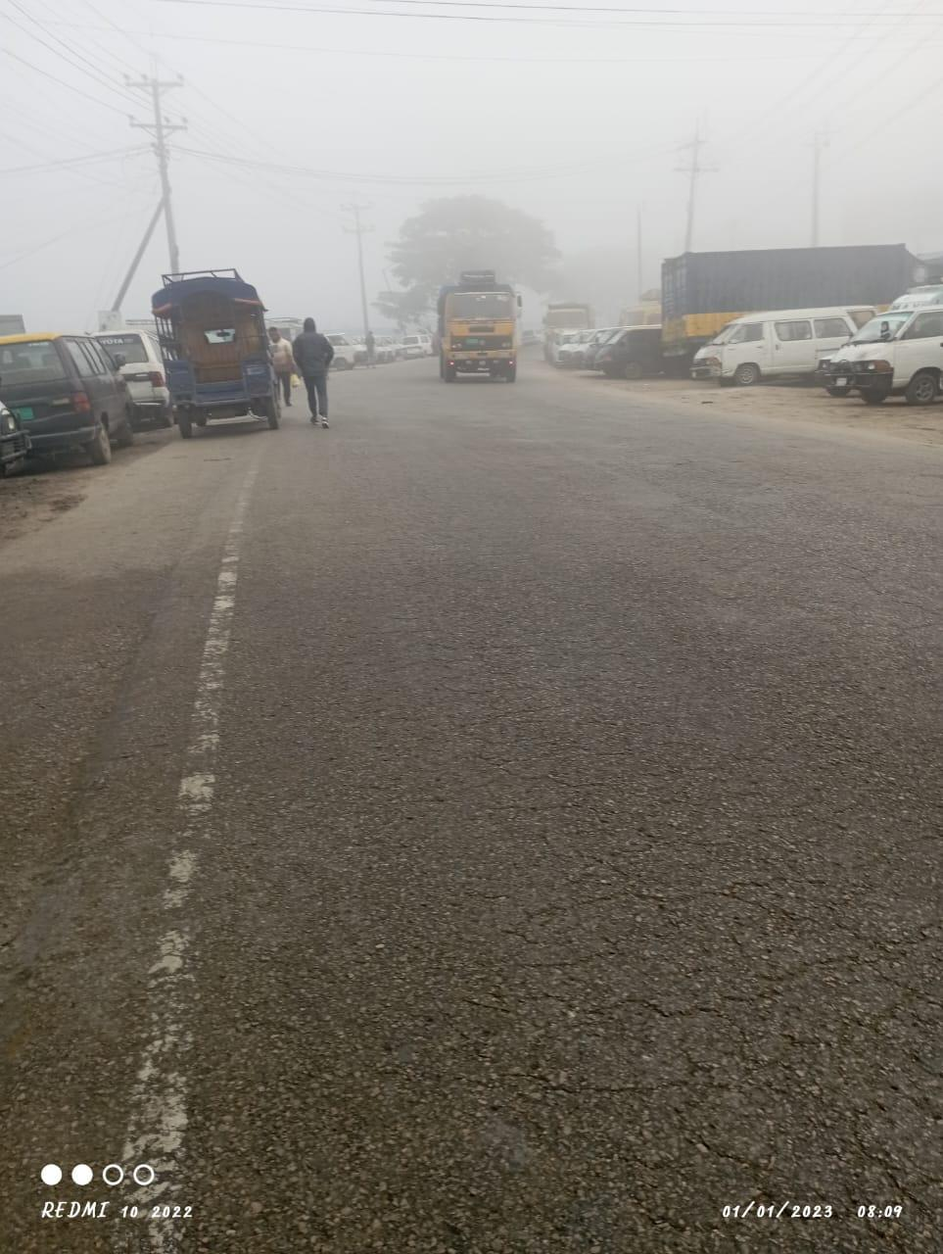Car: (142, 259, 296, 443), (8, 324, 135, 471), (672, 299, 854, 383), (816, 299, 943, 414), (107, 320, 172, 426), (589, 320, 668, 378)
Truck: (650, 240, 932, 337), (425, 265, 538, 388)
